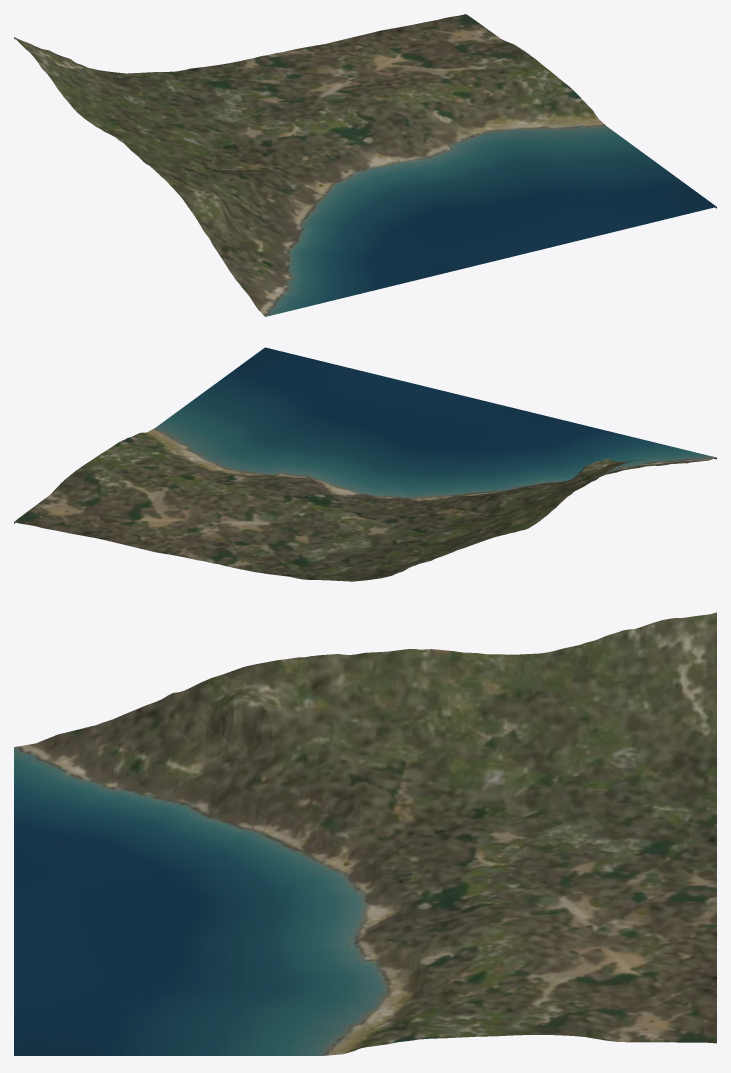
3 views of the same model, one above another, from view 1: azimuth 30°, elevation 25°; view 2: azimuth 150°, elevation 25°; view 3: azimuth 270°, elevation 25° (orthographic). The views are drawn at different scales.
Bounding box in the file's own units: 250 × 52.08 × 241.
Materials: 1 (1 with a texture image).
